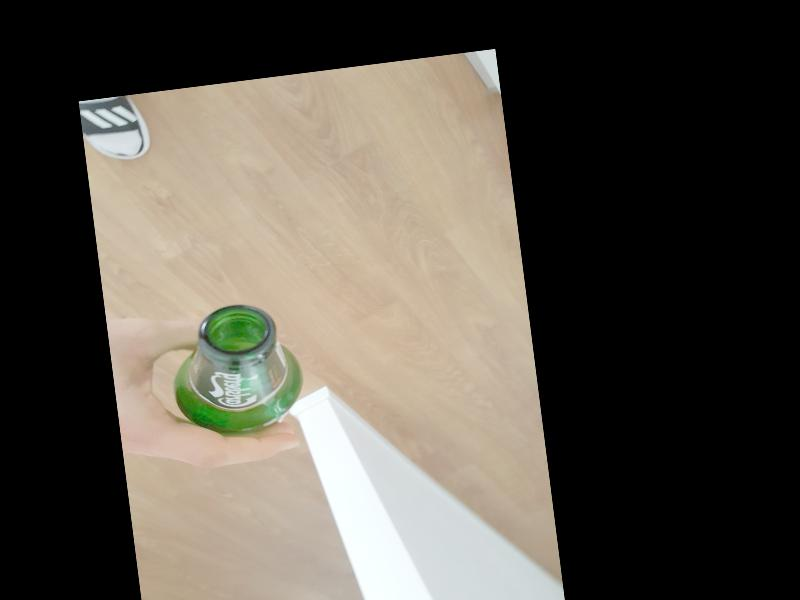Beer: (161, 297, 309, 442)
